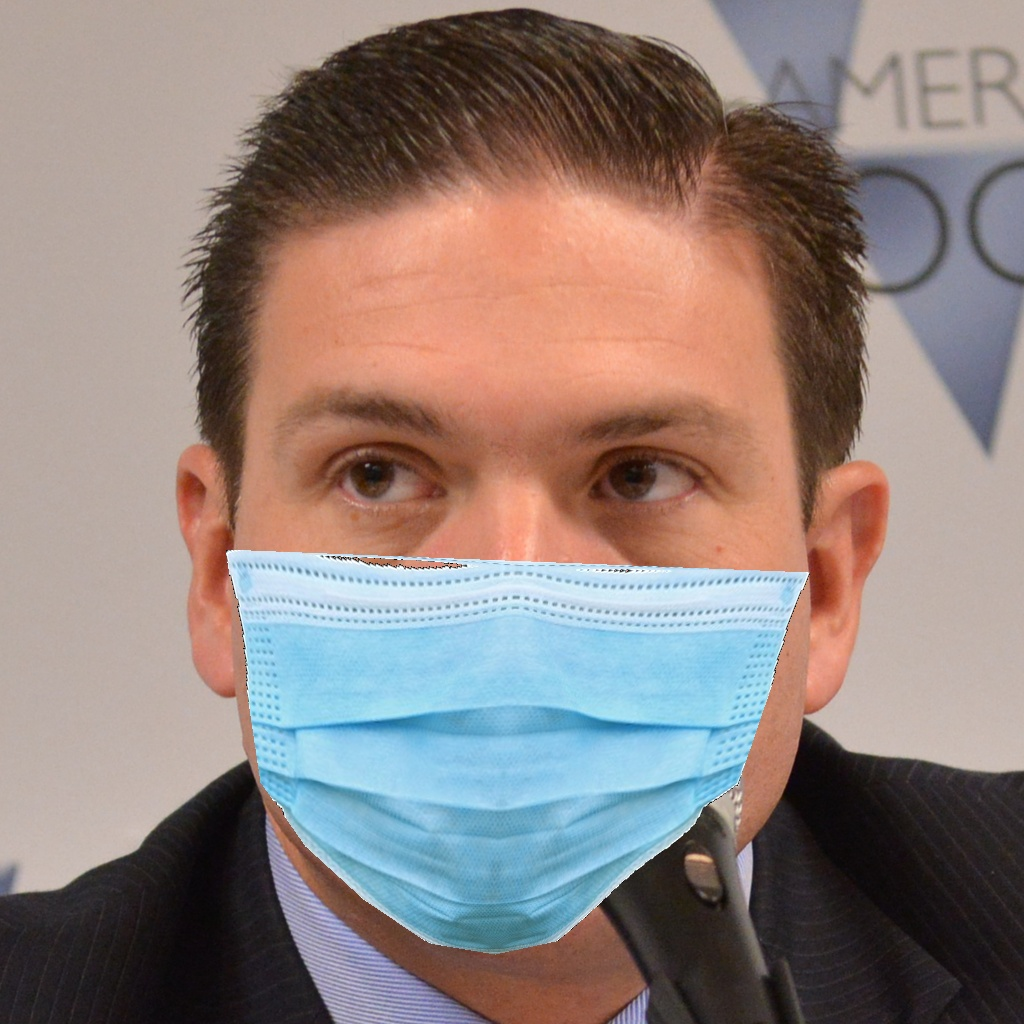Mask: (220, 350, 815, 957)
